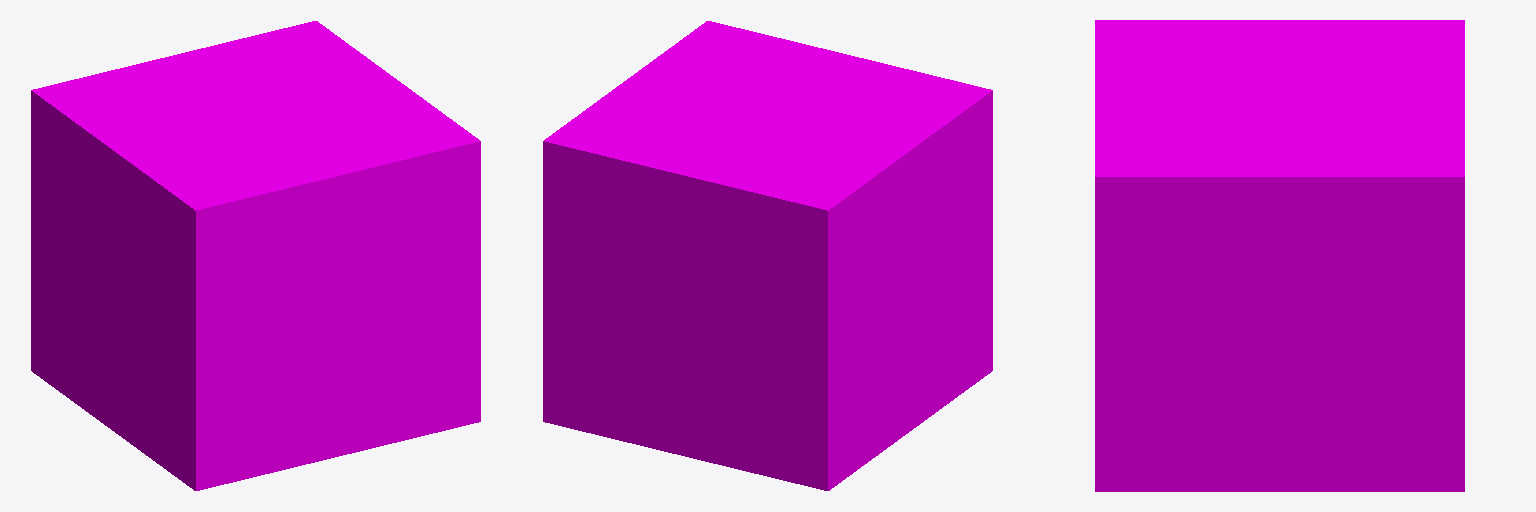
robot.urdf — cubeDE2:
<?xml version="1.0"?>
<robot name="cubeDE2">
	<link name="base">
	<inertial>
        	 <origin xyz="0 0 0" rpy="0 0 0"/>
        	 <mass value="1"/>
        	 <inertia ixx="0.000683333"  ixy="0"  ixz="0" iyy="0.000683333" iyz="0" izz="0.000683333" />
       </inertial>
		<visual>
			<origin xyz="0 0 0" rpy="0 0 0" />
			<geometry>
				<box size="0.5 0.5 0.47" />
			</geometry>
			<material>
				<color rgba="1 0 1 1" />
			</material>
		</visual>
	<collision>
            <origin xyz="0 0 0" rpy="0 0 0" />
            <geometry>
				<box size="0.5 0.5 0.47" />
            </geometry>
        </collision>
	</link>
</robot>

--- What the picture shows (computed from the rendered views, not written in the file) ---
Views: 3 orthographic renders of the robot side by side, from view 1: azimuth 30°, elevation 25°; view 2: azimuth 150°, elevation 25°; view 3: azimuth 270°, elevation 25°.
Robot: cubeDE2 — 1 links, 0 joints (none); root link base; default pose: all joints at 0.
Links seen in each view (by area): view 1: base; view 2: base; view 3: base.
Link boxes in pixels (left/top/right/bottom): base: left=31, top=21, right=480, bottom=490; base: left=543, top=21, right=992, bottom=490; base: left=1095, top=20, right=1464, bottom=491.
Size in the robot's own frame: 0.5 by 0.5 by 0.47 metres.
Geometry: primitives only (box / cylinder / sphere), no mesh files.
